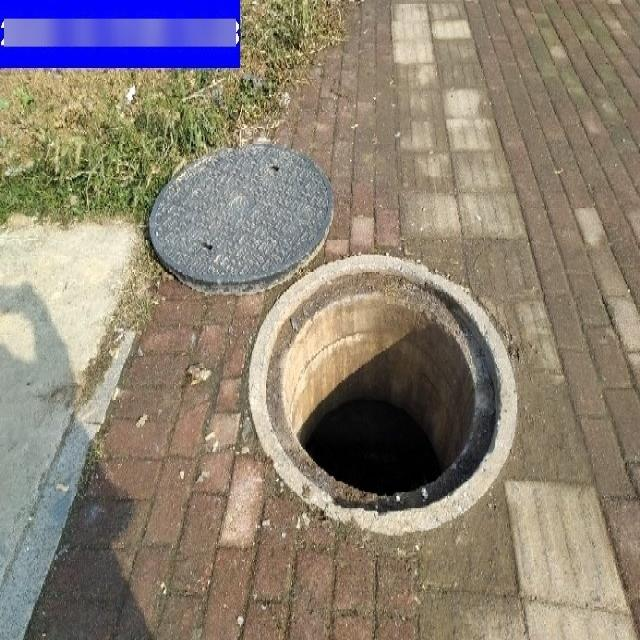Lose: (146, 141, 517, 531)
